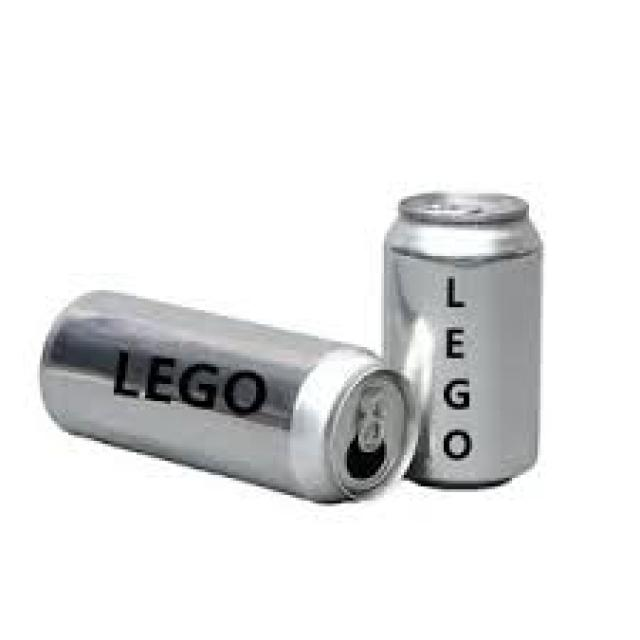Cans: (34, 282, 421, 509), (375, 179, 552, 498)
